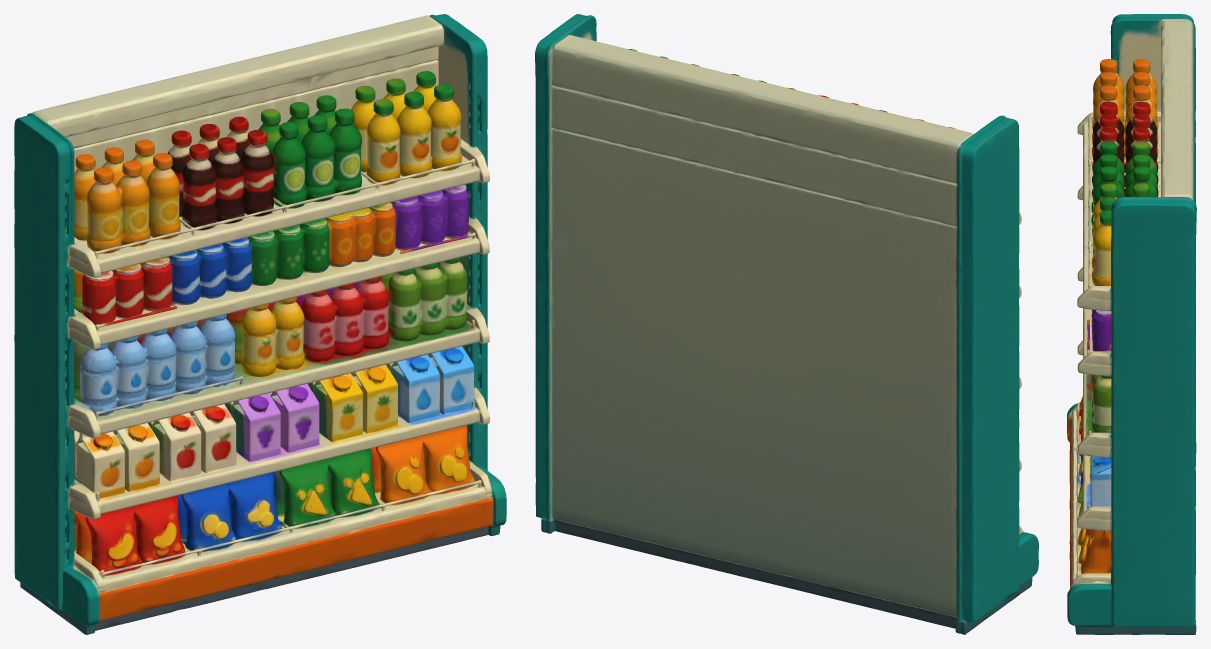
File: BeverageShelf.fbx
3 renders of one model, left to right at view 1: azimuth 30°, elevation 25°; view 2: azimuth 150°, elevation 25°; view 3: azimuth 270°, elevation 25°, orthographic. The views are drawn at different scales.
Parts seen in each view (by area): view 1: tripo_node_b2562480-2ace-4794-95ef-3a198f40d684; view 2: tripo_node_b2562480-2ace-4794-95ef-3a198f40d684; view 3: tripo_node_b2562480-2ace-4794-95ef-3a198f40d684.
Boxes of the visible parts, bbox=[...] form: tripo_node_b2562480-2ace-4794-95ef-3a198f40d684: bbox=[14, 14, 506, 634]; tripo_node_b2562480-2ace-4794-95ef-3a198f40d684: bbox=[535, 14, 1038, 634]; tripo_node_b2562480-2ace-4794-95ef-3a198f40d684: bbox=[1067, 14, 1196, 634].
Size of the model in its own units: 92.48 by 97.95 by 26.47.
1 material, 1 textured.
